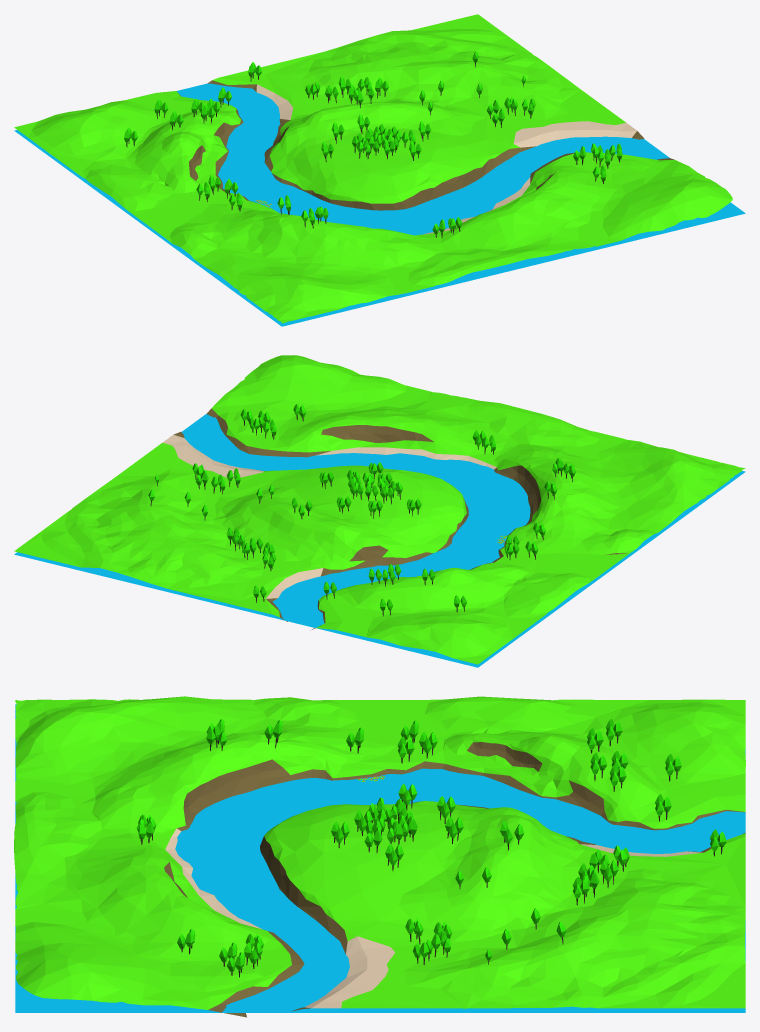
The model's file is Level1_combo.fbx.
The picture shows the model from 3 angles, top to bottom: view 1: azimuth 30°, elevation 25°; view 2: azimuth 150°, elevation 25°; view 3: azimuth 270°, elevation 25°; orthographic projection. The views are drawn at different scales.
Visible parts, largest first — view 1: LowPolyGround3; view 2: LowPolyGround3; view 3: LowPolyGround3.
Part boxes in pixels (box(x1,y1,x2,y2)): LowPolyGround3: box(14, 14, 745, 326); LowPolyGround3: box(14, 355, 745, 667); LowPolyGround3: box(14, 696, 745, 1017).
Size of the model in its own units: 30055 by 2866 by 30079.
